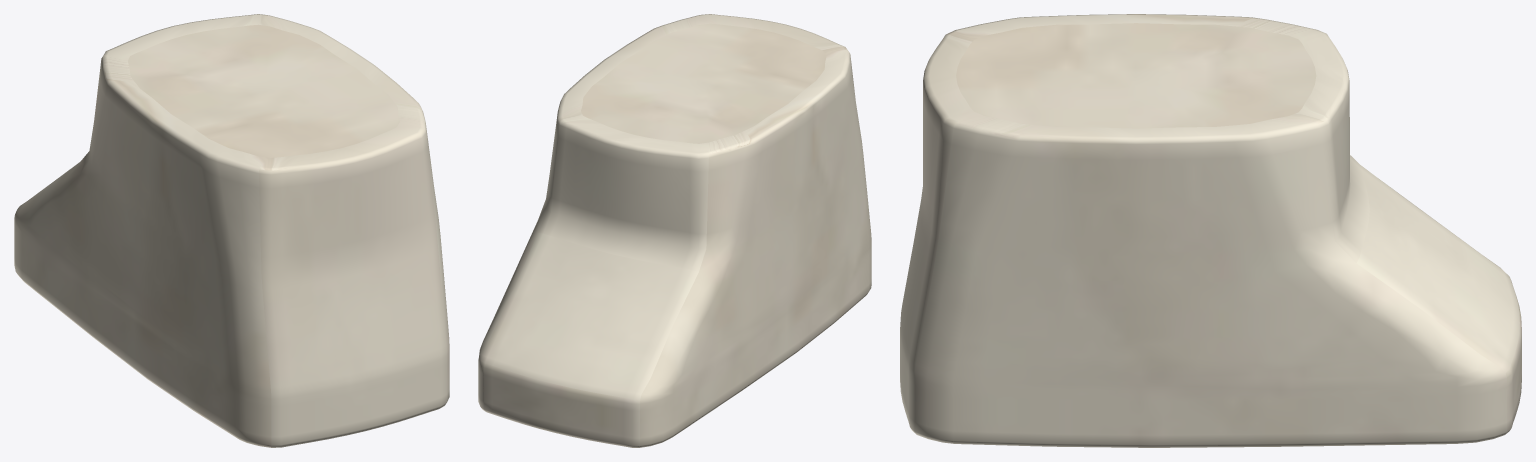
The model's file is PART8 (SUBDIVISION).glb.
The picture shows the model from 3 angles, left to right: view 1: azimuth 30°, elevation 25°; view 2: azimuth 150°, elevation 25°; view 3: azimuth 270°, elevation 25°; orthographic projection. The views are drawn at different scales.
Parts seen in each view (by area): view 1: CANADARM HD; view 2: CANADARM HD; view 3: CANADARM HD.
Part boxes in pixels (x1,y1,x2,y2): CANADARM HD: [14, 14, 449, 447]; CANADARM HD: [478, 14, 871, 447]; CANADARM HD: [900, 14, 1521, 447].
Size of the model in its own units: 0.0889 by 0.1015 by 0.1836.
1 material, 1 textured.
